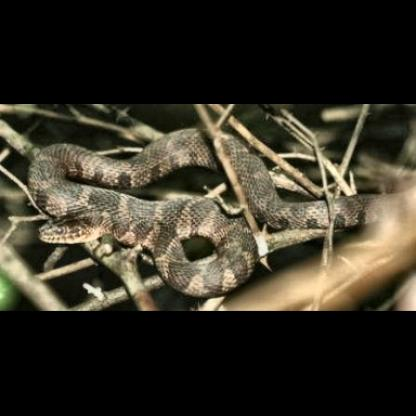Snake: (11, 100, 414, 306), (15, 110, 231, 298)
